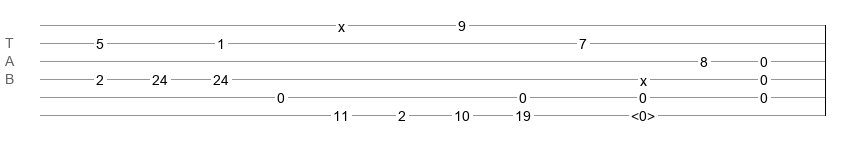0: (277, 90, 285, 100), (519, 90, 527, 100), (639, 90, 647, 100), (760, 72, 768, 82), (760, 90, 768, 100), (760, 54, 768, 64)
1: (217, 36, 225, 46)
10: (454, 108, 470, 118)
11: (333, 108, 349, 118)
19: (515, 108, 531, 118)
2: (96, 72, 104, 82), (398, 108, 406, 118)
24: (152, 72, 168, 82), (213, 72, 229, 82)
5: (96, 36, 104, 46)
7: (579, 36, 587, 46)
8: (700, 54, 708, 64)
9: (458, 18, 466, 28)
harmonic: (631, 108, 655, 118)
x: (338, 19, 345, 27), (640, 73, 647, 81)
